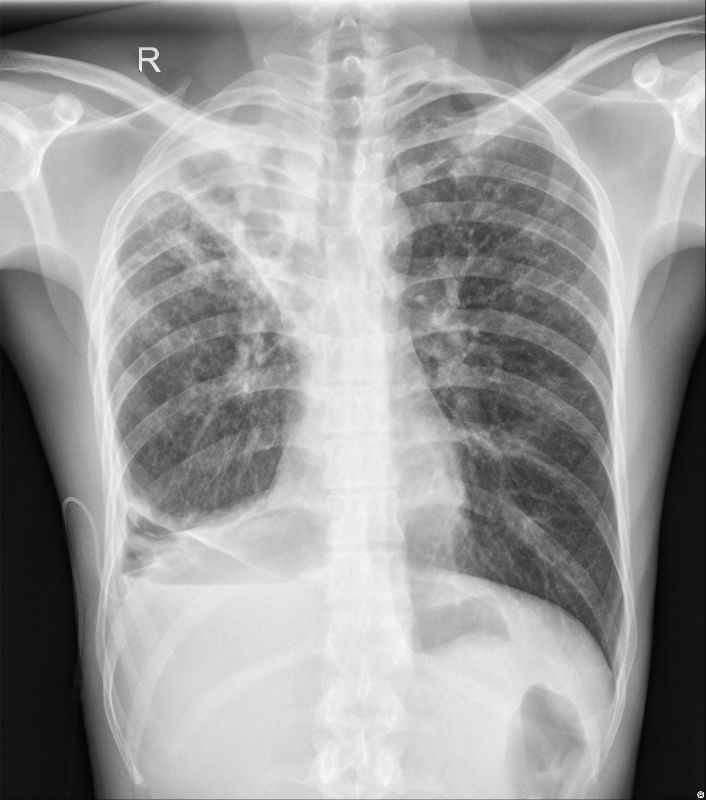Tuberculosis (TB): (162, 131, 284, 379), (404, 137, 495, 197)
